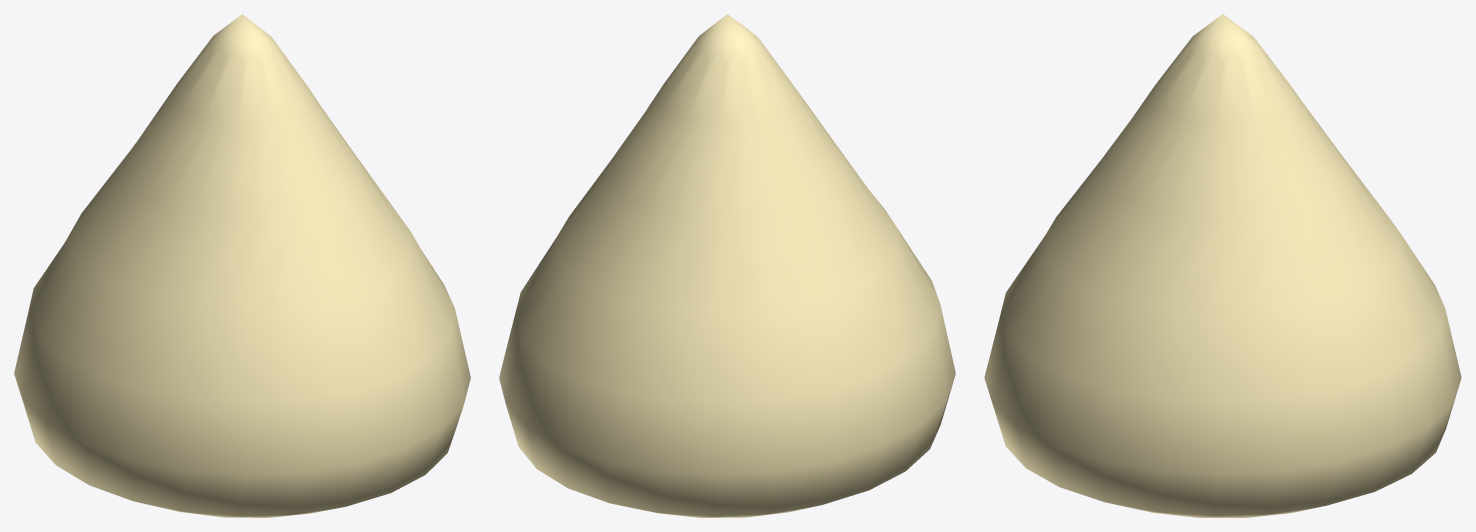
The model's file is Candy_C_06.fbx.
3 renders of one model, left to right at view 1: azimuth 30°, elevation 25°; view 2: azimuth 150°, elevation 25°; view 3: azimuth 270°, elevation 25°, orthographic.
Visible parts, largest first — view 1: Candy_C_06_LOD0; view 2: Candy_C_06_LOD0; view 3: Candy_C_06_LOD0.
Boxes of the visible parts, x1,y1,x2,y2 form: Candy_C_06_LOD0: (14, 14, 470, 517); Candy_C_06_LOD0: (499, 14, 955, 517); Candy_C_06_LOD0: (984, 14, 1461, 517).
Size of what is drawn, in the model's own units: 312 by 330 by 328.
